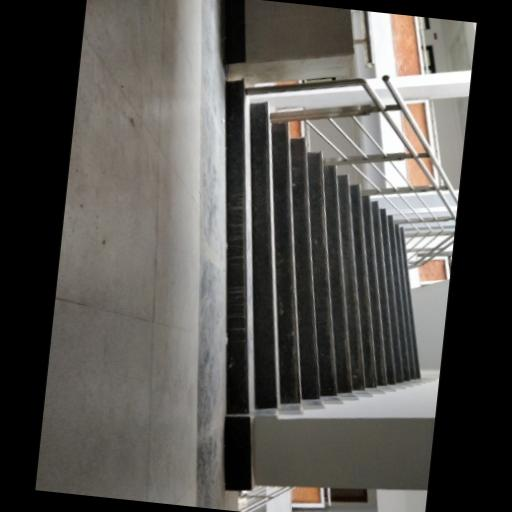stairs: (226, 81, 418, 414)
